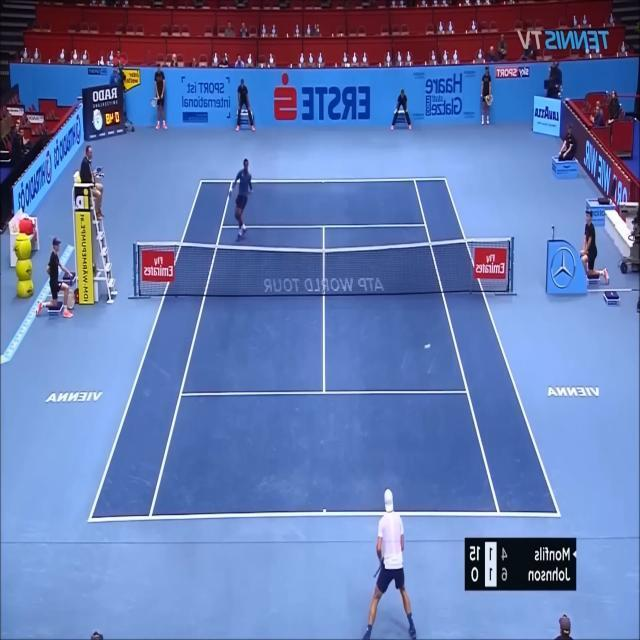court: (87, 177, 562, 522)
net: (129, 234, 516, 300)
player: (362, 487, 417, 640)
